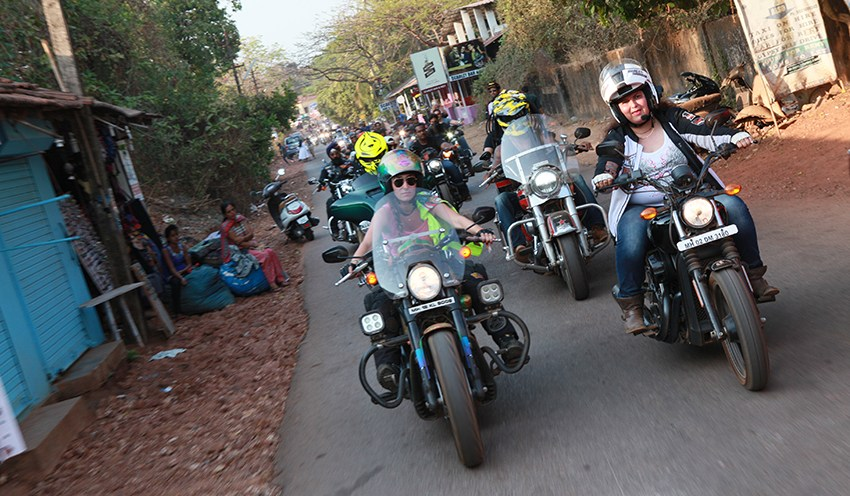helmet: (595, 61, 661, 101), (384, 151, 429, 187)
